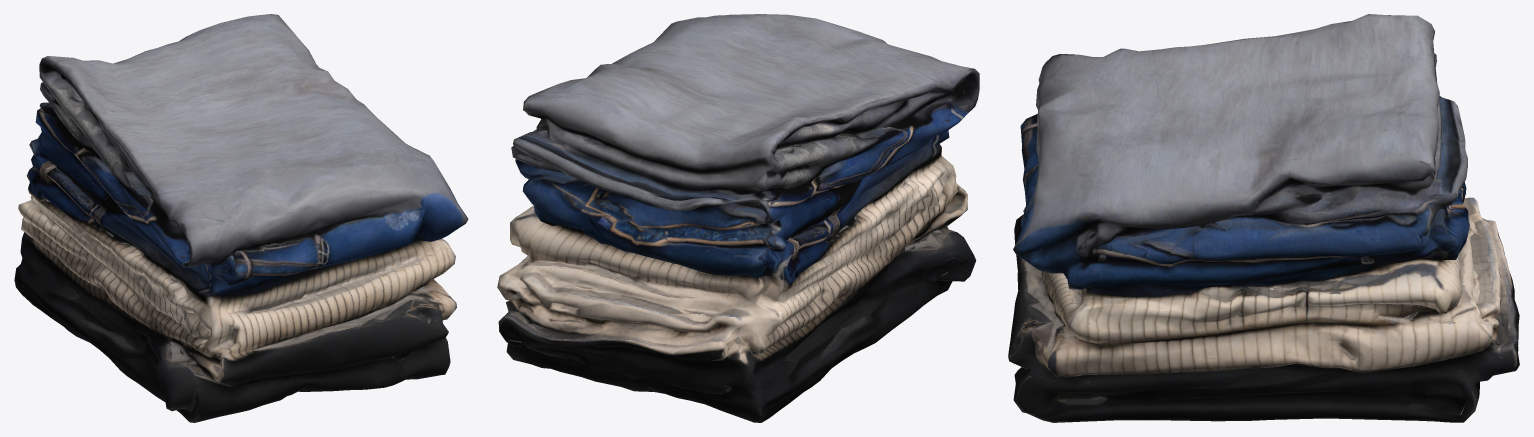
Rendered from Meshy_AI_Stack_of_Cozy_Essenti_0126033314_texture.glb.
3 views of the same model, side by side, from view 1: azimuth 30°, elevation 25°; view 2: azimuth 150°, elevation 25°; view 3: azimuth 270°, elevation 25° (orthographic). The views are drawn at different scales.
Size of the model in its own units: 1.47 by 1.26 by 2.01.
Materials: 1 (1 with a texture image).
